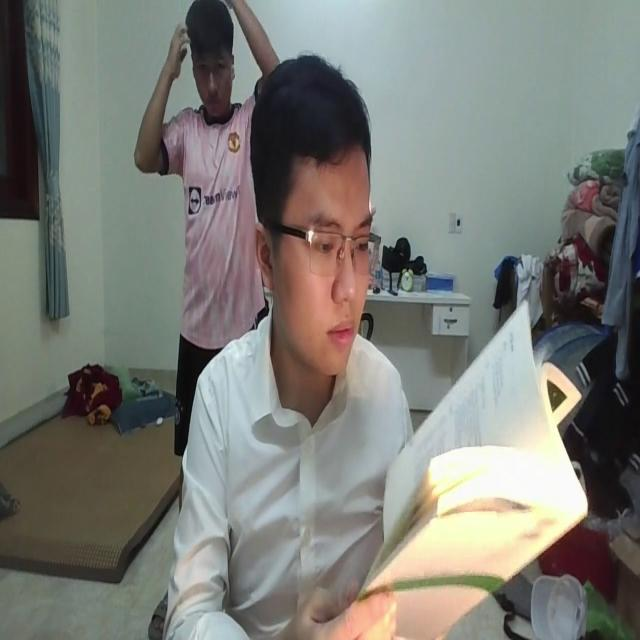book: (364, 298, 591, 637)
extra_person: (121, 0, 288, 469)
student: (168, 52, 415, 640)
